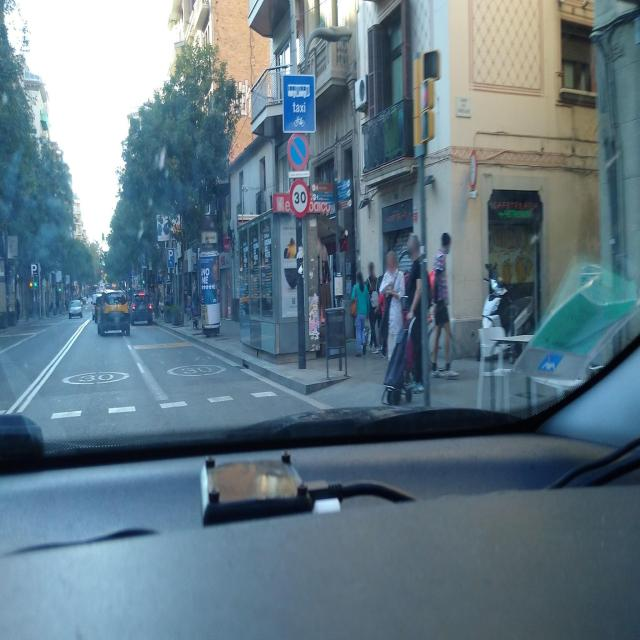forb_stopping: (287, 133, 310, 171)
